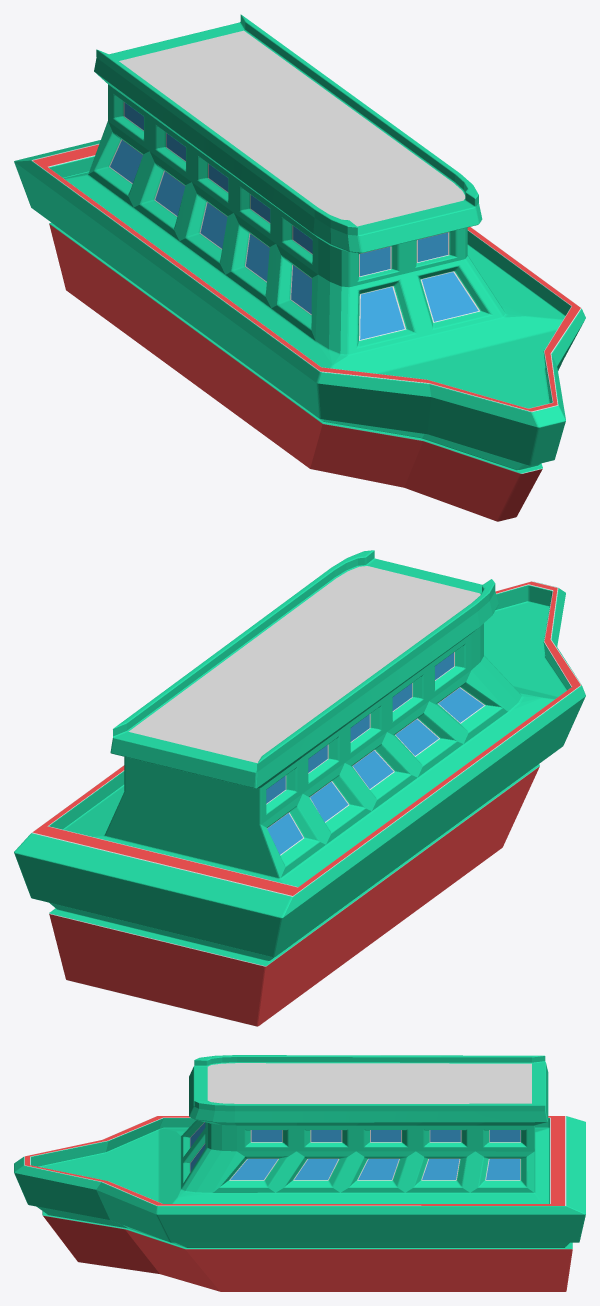
Rendered from ship.fbx.
The picture shows the model from 3 angles, top to bottom: view 1: azimuth 30°, elevation 25°; view 2: azimuth 150°, elevation 25°; view 3: azimuth 270°, elevation 25°; orthographic projection. The views are drawn at different scales.
Parts seen in each view (by area): view 1: Ship; view 2: Ship; view 3: Ship.
Boxes of the visible parts, <box> form: Ship: <box>14,14,585,521</box>; Ship: <box>14,550,585,1026</box>; Ship: <box>14,1055,585,1291</box>.
Bounding box in the file's own units: 0.4564 × 0.4033 × 1.19.
